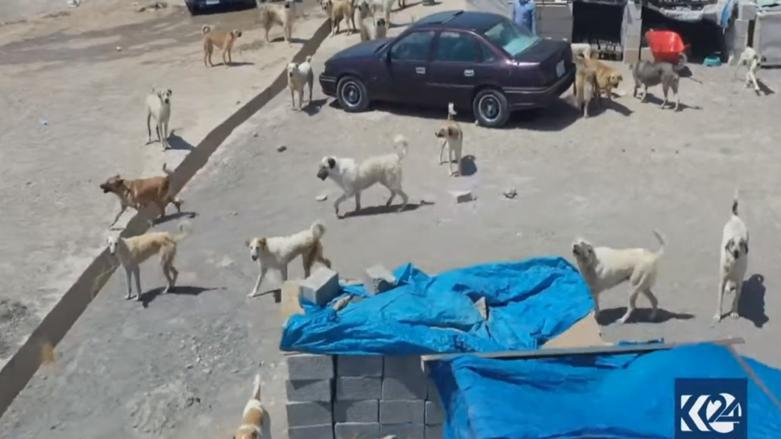dog_aggressive: (568, 232, 673, 325), (99, 165, 190, 224)
normal_dogs: (249, 220, 340, 304), (315, 149, 422, 218), (98, 232, 193, 304), (714, 198, 750, 322), (628, 55, 694, 118), (570, 53, 632, 118), (138, 82, 192, 147), (278, 54, 328, 115), (232, 372, 276, 439), (433, 110, 472, 182), (734, 39, 772, 98), (201, 24, 244, 71), (250, 0, 297, 42), (572, 45, 593, 124), (318, 0, 352, 38), (356, 3, 386, 45), (358, 0, 413, 11)
